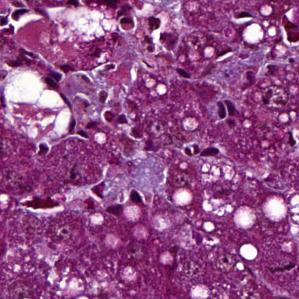ballooning: (0, 65, 74, 146)
